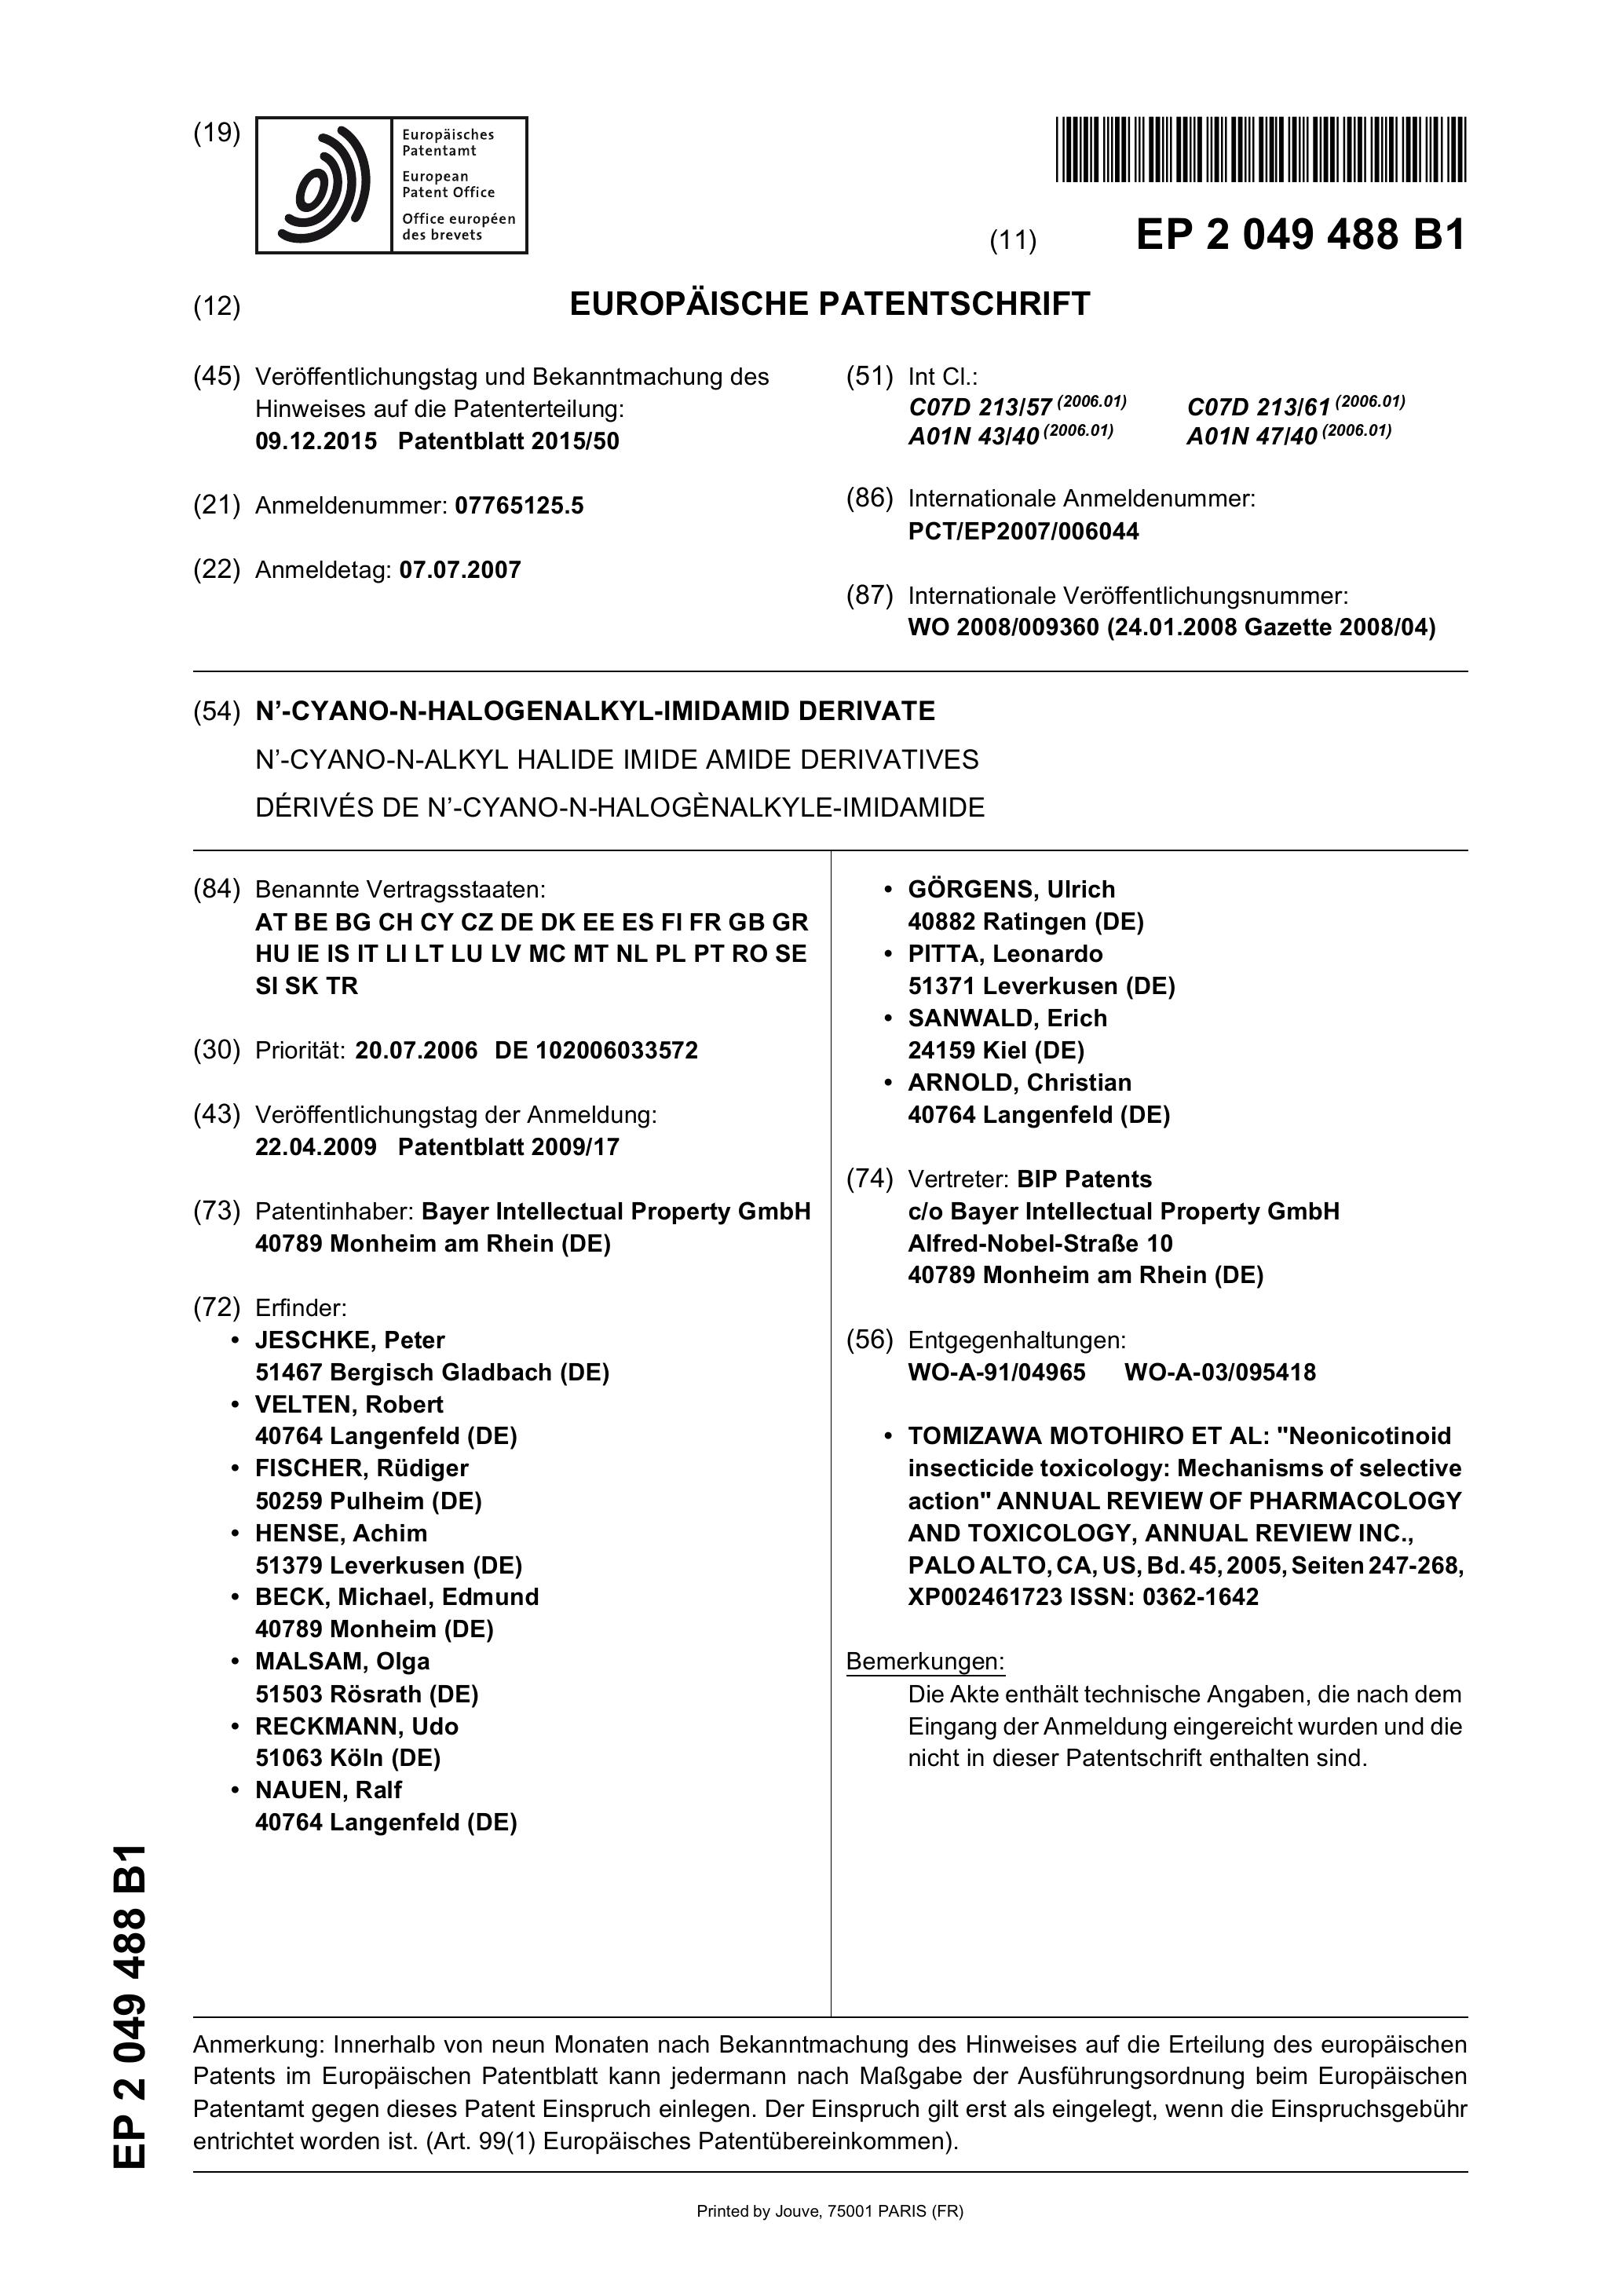substitutes: (193, 703, 1028, 820)
